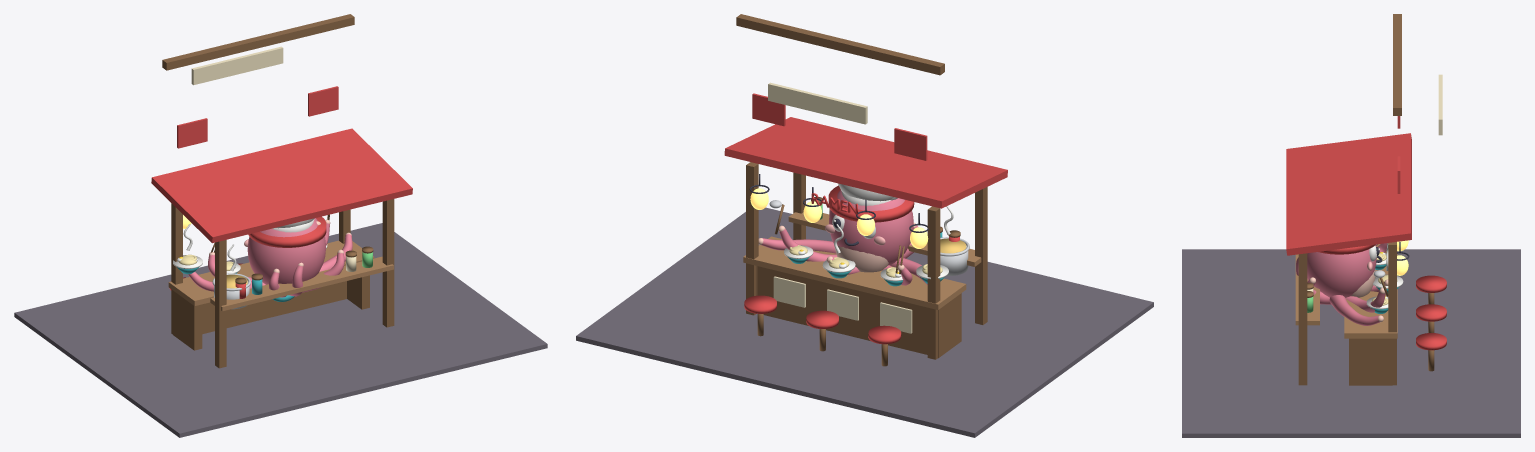
The model's file is octopus_ramen_booth.glb.
The picture shows the model from 3 angles, left to right: view 1: azimuth 30°, elevation 25°; view 2: azimuth 150°, elevation 25°; view 3: azimuth 270°, elevation 25°; orthographic projection. The views are drawn at different scales.
Visible parts, largest first — view 1: Floor, Roof, OctopusHead, CounterFront, RoofBeam, BackShelf, Sign, Post2.05-1.3, Post-2.05-1.3, CounterTop, CounterSideL, Headband (+4 smaller); view 2: Floor, Roof, CounterFront, CounterTop, RoofBeam, OctopusHead, Sign, Post-2.050.55, Post-2.05-1.3, Post2.050.55, CounterSideL, Headband (+9 smaller); view 3: Floor, Roof, OctopusHead, CounterSideR, Post2.05-1.3, CounterTop, Post2.050.55, RoofBeam, Tentacle6, BackShelf, StoolTop0, StoolTop1.4 (+2 smaller).
Boxes of the visible parts, x1=… form: Floor: x1=14, y1=223, x2=547, y2=437; Roof: x1=151, y1=128, x2=412, y2=243; OctopusHead: x1=247, y1=218, x2=325, y2=284; CounterFront: x1=202, y1=281, x2=346, y2=334; RoofBeam: x1=162, y1=14, x2=354, y2=70; BackShelf: x1=210, y1=256, x2=393, y2=311; Sign: x1=191, y1=46, x2=283, y2=85; Post2.05-1.3: x1=382, y1=199, x2=394, y2=327; Post-2.05-1.3: x1=215, y1=240, x2=226, y2=368; CounterTop: x1=168, y1=240, x2=374, y2=306; CounterSideL: x1=173, y1=290, x2=202, y2=350; Headband: x1=248, y1=216, x2=326, y2=247; Floor: x1=576, y1=207, x2=1153, y2=437; Roof: x1=724, y1=117, x2=1007, y2=208; CounterFront: x1=757, y1=266, x2=927, y2=354; CounterTop: x1=743, y1=236, x2=966, y2=309; RoofBeam: x1=736, y1=14, x2=944, y2=75; OctopusHead: x1=829, y1=190, x2=913, y2=265; Sign: x1=768, y1=82, x2=867, y2=124; Post-2.050.55: x1=927, y1=206, x2=940, y2=359; Post-2.05-1.3: x1=975, y1=187, x2=987, y2=324; Post2.050.55: x1=746, y1=162, x2=758, y2=315; CounterSideL: x1=938, y1=293, x2=961, y2=358; Headband: x1=828, y1=185, x2=914, y2=222; Floor: x1=1182, y1=249, x2=1520, y2=437; Roof: x1=1286, y1=133, x2=1411, y2=255; OctopusHead: x1=1307, y1=245, x2=1376, y2=297; CounterSideR: x1=1349, y1=338, x2=1392, y2=385; Post2.05-1.3: x1=1298, y1=253, x2=1307, y2=385; CounterTop: x1=1344, y1=244, x2=1397, y2=338; Post2.050.55: x1=1388, y1=242, x2=1396, y2=385; RoofBeam: x1=1393, y1=14, x2=1401, y2=115; Tentacle6: x1=1329, y1=295, x2=1379, y2=325; BackShelf: x1=1295, y1=254, x2=1319, y2=325; StoolTop0: x1=1416, y1=304, x2=1446, y2=321; StoolTop1.4: x1=1416, y1=333, x2=1446, y2=350.
Bounding box in the file's own units: 9 × 6.49 × 7.
